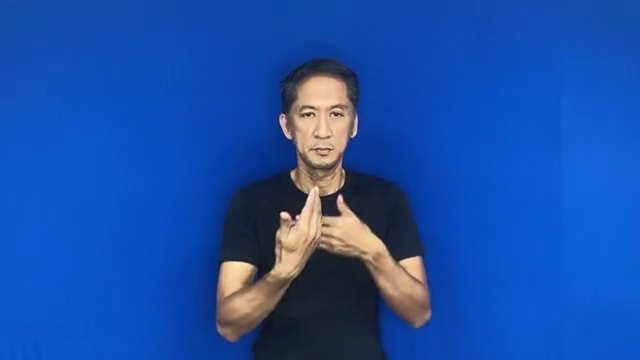bread: (270, 181, 380, 291)
